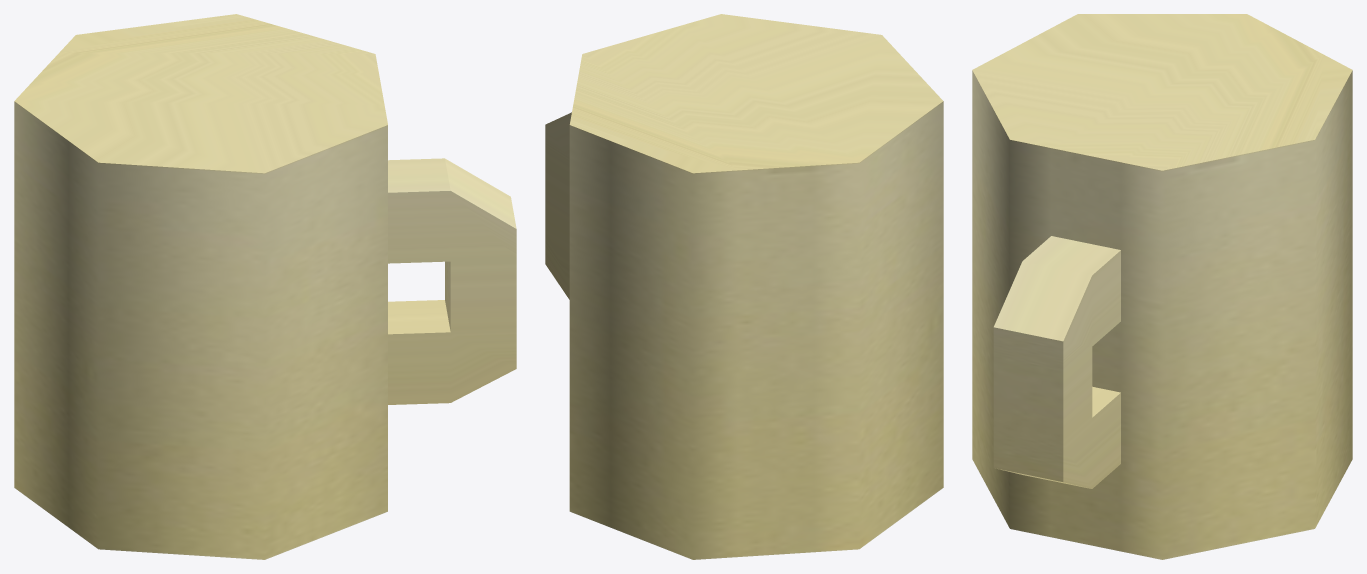
Rendered from mug3.FBX.
3 renders of one model, left to right at view 1: azimuth 30°, elevation 25°; view 2: azimuth 150°, elevation 25°; view 3: azimuth 270°, elevation 25°, orthographic.
Parts seen in each view (by area): view 1: Cylinder001; view 2: Cylinder001; view 3: Cylinder001.
Part boxes in pixels (<box>): Cylinder001: <box>14,14,516,559</box>; Cylinder001: <box>545,14,943,559</box>; Cylinder001: <box>972,14,1352,559</box>.
Bounding box in the file's own units: 54.13 × 49.35 × 43.73.
3 materials, 3 textured.
